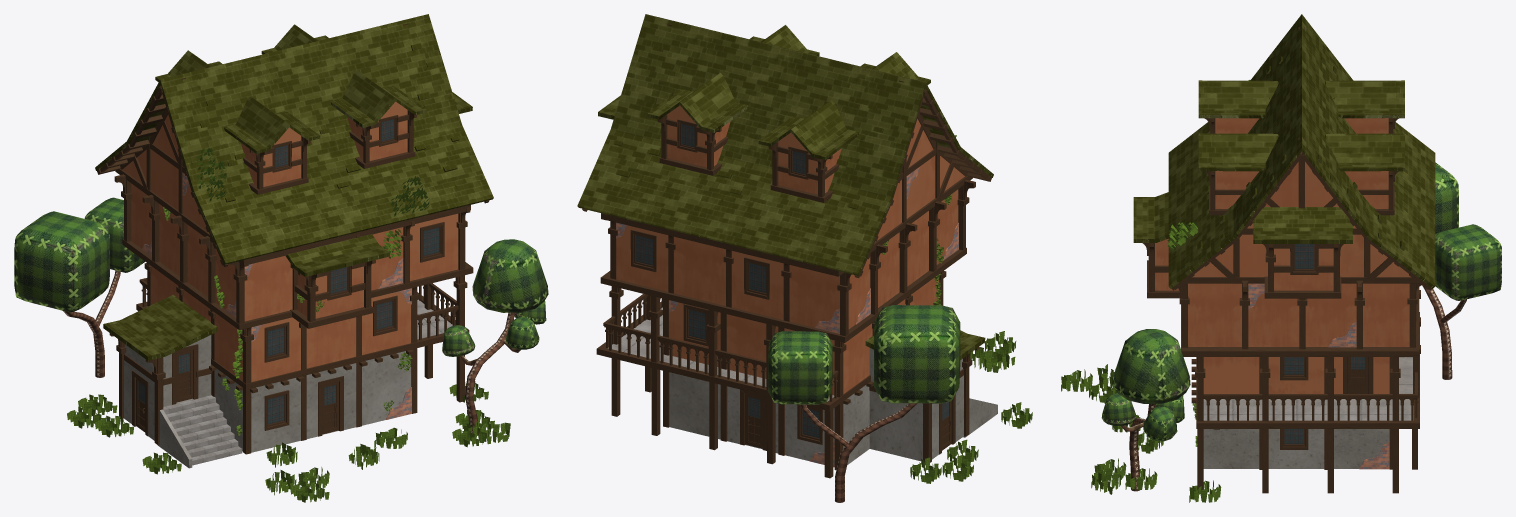
The model's file is BLD_HouseB.glb.
The picture shows the model from 3 angles, left to right: view 1: azimuth 30°, elevation 25°; view 2: azimuth 150°, elevation 25°; view 3: azimuth 270°, elevation 25°; orthographic projection. The views are drawn at different scales.
Parts seen in each view (by area): view 1: Object_7, Object_6, Object_5, Object_17, Object_8, Object_15, Object_4, Object_9, Object_10; view 2: Object_7, Object_6, Object_5, Object_17, Object_8, Object_15, Object_9, Object_4, Object_10; view 3: Object_7, Object_5, Object_6, Object_17, Object_8, Object_4, Object_15, Object_9, Object_10.
Boxes of the visible parts, bbox=[...] form: Object_7: bbox=[95, 14, 493, 360]; Object_6: bbox=[97, 23, 489, 454]; Object_5: bbox=[123, 101, 458, 381]; Object_17: bbox=[14, 197, 548, 435]; Object_8: bbox=[124, 335, 411, 468]; Object_15: bbox=[67, 147, 510, 502]; Object_4: bbox=[147, 299, 452, 465]; Object_9: bbox=[138, 119, 439, 424]; Object_10: bbox=[142, 172, 411, 419]; Object_7: bbox=[577, 14, 993, 359]; Object_6: bbox=[582, 24, 991, 478]; Object_5: bbox=[616, 105, 964, 395]; Object_17: bbox=[768, 305, 960, 502]; Object_8: bbox=[669, 348, 997, 464]; Object_15: bbox=[882, 135, 1032, 483]; Object_9: bbox=[636, 123, 949, 438]; Object_4: bbox=[608, 307, 834, 448]; Object_10: bbox=[616, 167, 958, 467]; Object_7: bbox=[1133, 14, 1435, 288]; Object_5: bbox=[1155, 118, 1410, 393]; Object_6: bbox=[1142, 27, 1431, 493]; Object_17: bbox=[1101, 162, 1501, 491]; Object_8: bbox=[1203, 429, 1389, 468]; Object_4: bbox=[1203, 357, 1413, 420]; Object_15: bbox=[1061, 80, 1250, 502]; Object_9: bbox=[1284, 244, 1364, 444]; Object_10: bbox=[1248, 283, 1389, 469].
Bounding box in the file's own units: 18.46 × 15.51 × 17.24.
10 materials, 9 textured.
